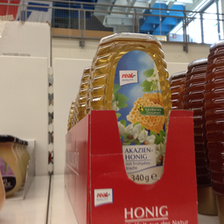honey: (84, 32, 174, 206)
